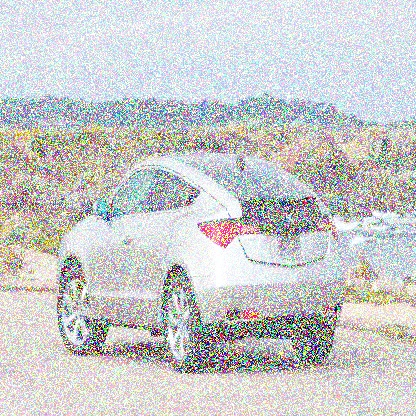Vehicle: (58, 152, 348, 373)
